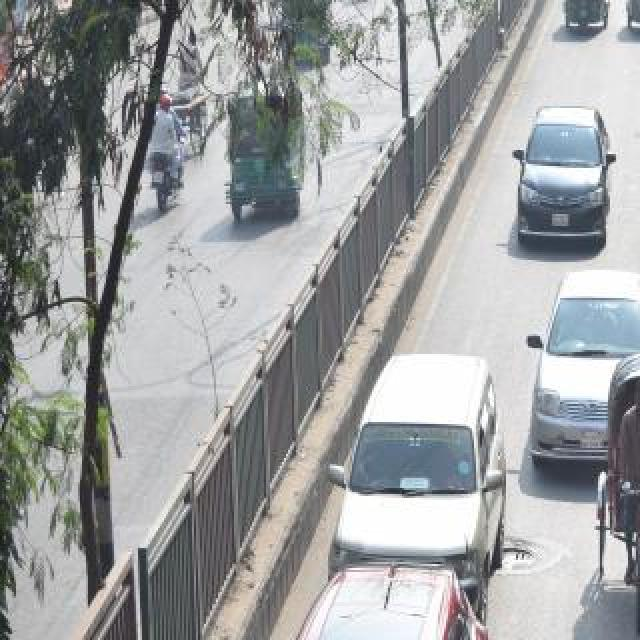car: (327, 311, 505, 631), (522, 264, 640, 500), (210, 562, 482, 640), (507, 102, 621, 264)
